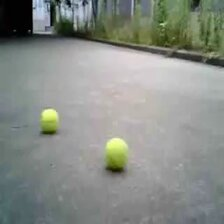tennis: (103, 137, 128, 169), (39, 108, 59, 132)
